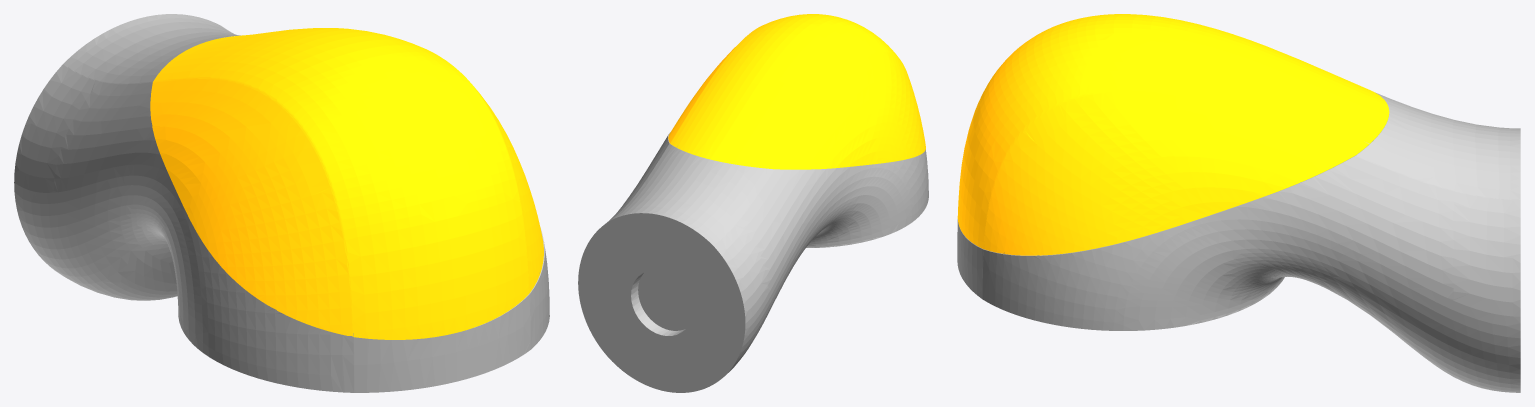
3 renders of one model, left to right at view 1: azimuth 30°, elevation 25°; view 2: azimuth 150°, elevation 25°; view 3: azimuth 270°, elevation 25°, orthographic. The views are drawn at different scales.
Visible parts, largest first — view 1: Link_2_002, Link_2; view 2: Link_2, Link_2_002; view 3: Link_2, Link_2_002.
Boxes of the visible parts, x1,y1,x2,y2 form: Link_2_002: (150, 28, 543, 339); Link_2: (14, 14, 549, 392); Link_2: (578, 132, 928, 392); Link_2_002: (668, 14, 925, 169); Link_2: (957, 92, 1520, 392); Link_2_002: (957, 14, 1389, 255).
Size of the model in its own units: 0.171 by 0.29 by 0.2001.
